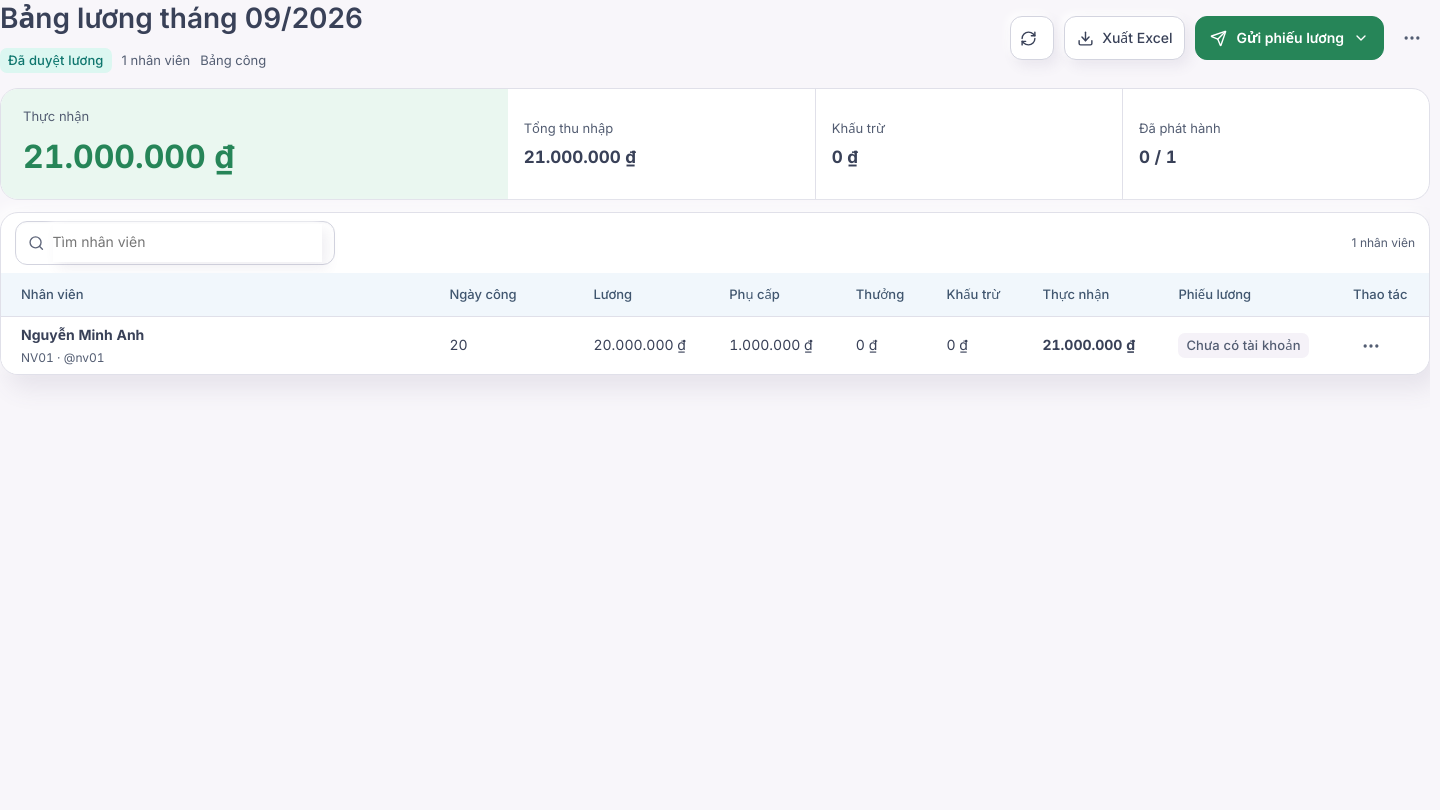
Scenario: simple accountant approval › blocks bulk and individual delivery to missing accounts
Click the button "Gửi phiếu lương" at (1290, 38), box [1196, 16, 1384, 60]
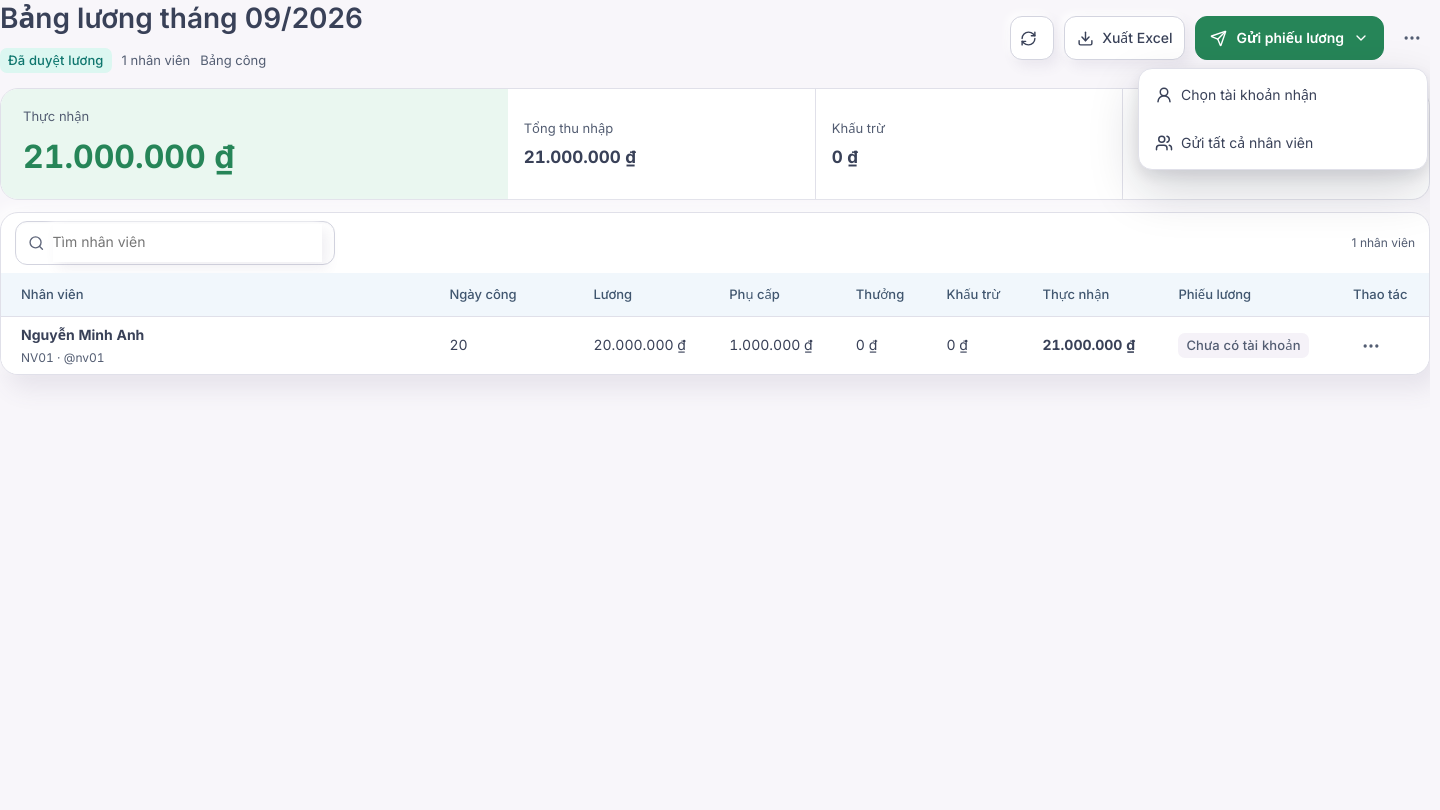
Click the menu item "Gửi tất cả nhân viên" at (1283, 143), box [1143, 121, 1423, 165]
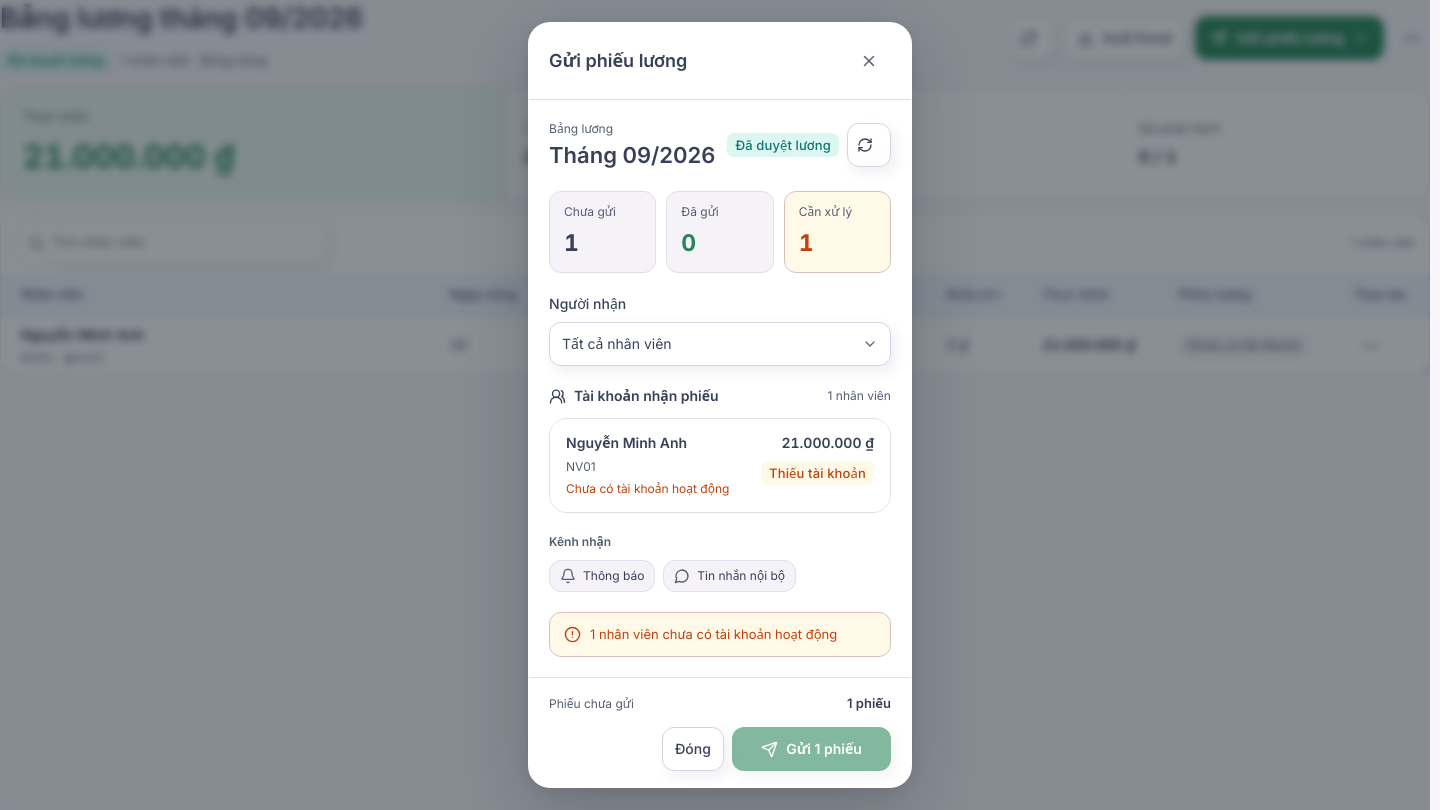
Expected: the dropdown named "Người nhận" is shown, [549, 322, 891, 366]
Expected: the button "Gửi 1 phiếu" is disabled, [732, 727, 891, 771]
Expected: the message reads "1 nhân viên chưa có tài khoản hoạt động", [590, 626, 837, 642]
